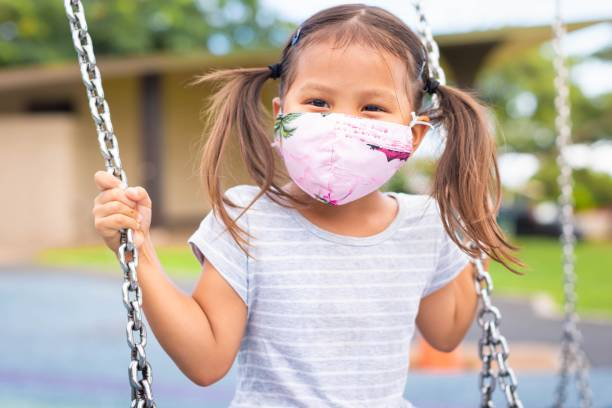with mask: (268, 29, 429, 208)
